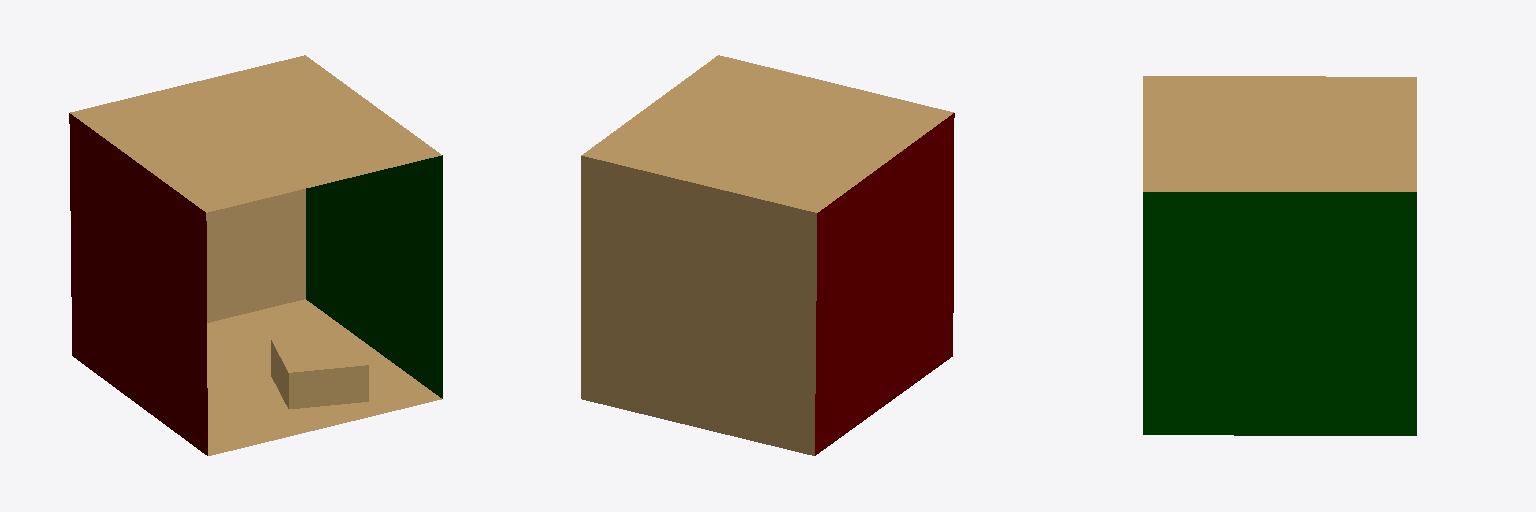
The picture shows the model from 3 angles: view 1: azimuth 30°, elevation 25°; view 2: azimuth 150°, elevation 25°; view 3: azimuth 270°, elevation 25°; orthographic projection.
Visible parts, largest first — view 1: left_wall, ceiling, right_wall, floor, back_wall, short_box; view 2: back_wall, left_wall, ceiling; view 3: right_wall, ceiling.
Boxes of the visible parts, x1=… form: left_wall: x1=69, y1=113, x2=207, y2=455; ceiling: x1=70, y1=55, x2=441, y2=212; right_wall: x1=306, y1=155, x2=442, y2=398; floor: x1=207, y1=299, x2=441, y2=455; back_wall: x1=206, y1=189, x2=305, y2=322; short_box: x1=271, y1=332, x2=368, y2=408; back_wall: x1=581, y1=156, x2=816, y2=455; left_wall: x1=815, y1=113, x2=954, y2=455; ceiling: x1=581, y1=55, x2=953, y2=212; right_wall: x1=1143, y1=192, x2=1416, y2=435; ceiling: x1=1143, y1=76, x2=1416, y2=191.
Bounding box in the file's own units: 11.12 × 10.98 × 11.19.